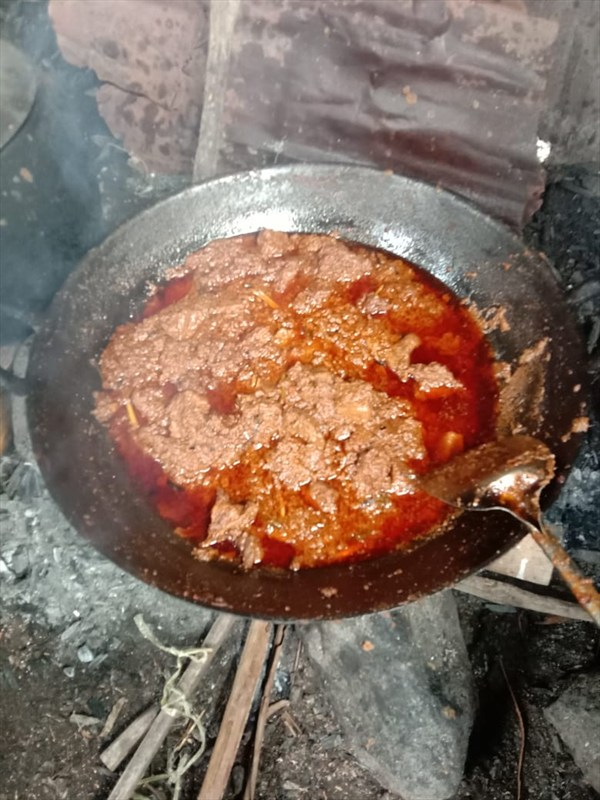Rendang: (148, 205, 546, 701)
